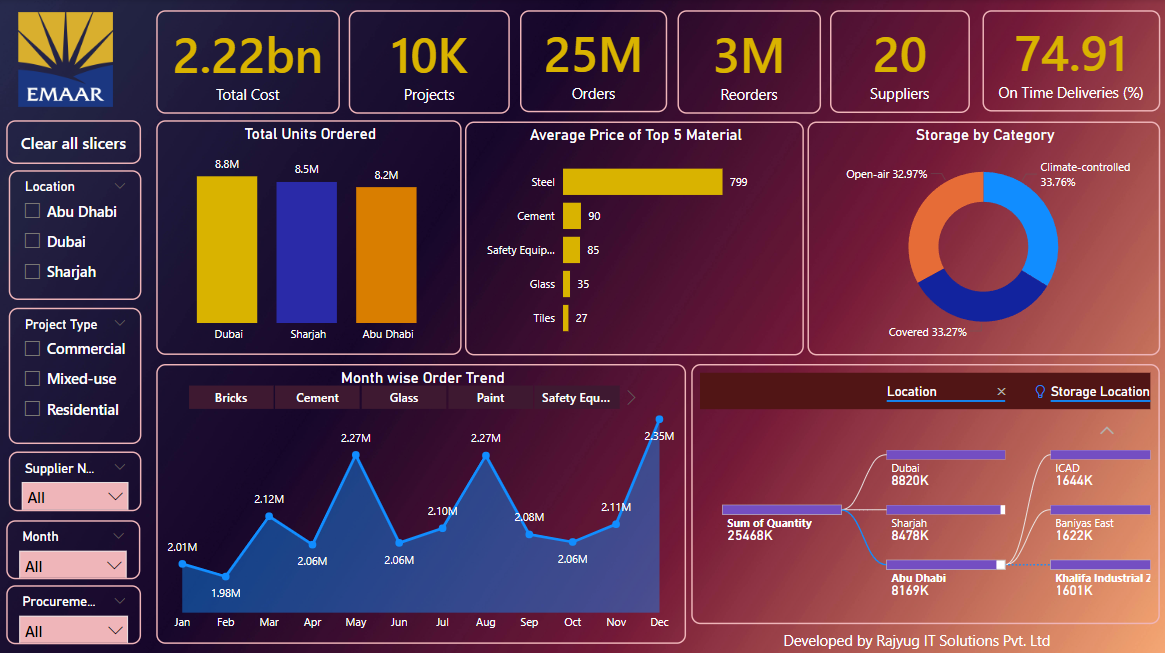

Layout of this report page (visuals, bound fields, positions):
{"tool":"powerbi","page":{"name":"Real Estate 1","canvas":[1280,720],"ordinal":0},"visuals":[{"type":"card","fields":{"Values":["Sum(dubai_construction_procurement.Reorder Quantity)"]},"box":[743.7,12.3,157.8,113.9],"z":0},{"type":"card","fields":{"Values":["Sum(dubai_construction_procurement.Quantity)"]},"box":[570.8,12.3,161.9,112],"z":1000},{"type":"card","fields":{"Values":["Sum(dubai_construction_procurement.Total Cost)"]},"box":[171.5,12.3,201.7,113.9],"z":2000},{"type":"columnChart","title":"Total Units Ordered","fields":{"Category":["dubai_construction_procurement.Location"],"Y":["Sum(dubai_construction_procurement.Quantity)"]},"box":[171.5,133.1,334.8,258],"z":3000},{"type":"decompositionTreeVisual","title":"Total Cost by Procurement Status","fields":{"ExplainBy":["dubai_construction_procurement.Location","dubai_construction_procurement.Storage Location"],"Analyze":["Sum(dubai_construction_procurement.Quantity)"]},"box":[758.8,400.7,514.6,285.4],"z":4000},{"type":"donutChart","title":"Storage by Category","fields":{"Category":["dubai_construction_procurement.Storage Conditions"],"Y":["Sum(dubai_construction_procurement.Quantity)"]},"box":[886.5,134.5,387,256.6],"z":5000},{"type":"lineChart","title":"Month wise Order Trend","fields":{"Y":["Sum(dubai_construction_procurement.Quantity)"],"Category":["Calende table.Month"]},"box":[171.5,400.7,581.8,307.4],"z":6000},{"type":"slicer","fields":{"Values":["dubai_construction_procurement.Location"]},"box":[9.6,188,145.5,142],"z":7000},{"type":"slicer","fields":{"Values":["dubai_construction_procurement.Project Type"]},"box":[9.6,338.9,145.5,149.6],"z":8000},{"type":"slicer","title":"Month","fields":{"Values":["Calende table.Date.Variation.Date Hierarchy.Month"]},"box":[7,572.2,146.8,65],"z":9000},{"type":"slicer","fields":{"Values":["dubai_construction_procurement.Procurement Status"]},"box":[7,644,148.2,65],"z":10000},{"type":"clusteredBarChart","title":"Average Price of Top 5 Material","fields":{"Y":["Avg(dubai_construction_procurement.Unit Price)"],"Category":["dubai_construction_procurement.Material Type"]},"box":[510,134.5,371.9,256.6],"z":11000},{"type":"actionButton","box":[7,133.1,148.2,48],"z":12000},{"type":"image","box":[9.6,9.6,124.9,113.9],"z":13000},{"type":"slicer","fields":{"Values":["dubai_construction_procurement.Material Type"]},"box":[181.4,417.1,522.9,40],"z":14000},{"type":"textbox","box":[767.1,687.5,478.9,32.9],"z":15000},{"type":"card","fields":{"Values":["Measure table.On Time Deliveries (%)"]},"box":[1078.6,12.3,194.9,111.1],"z":16000},{"type":"slicer","fields":{"Values":["dubai_construction_procurement.Supplier Name"]},"box":[9.6,496.7,145.5,65.9],"z":17000},{"type":"card","fields":{"Values":["Measure table.Total Projects"]},"box":[382.8,12.3,177,113.9],"z":18000},{"type":"card","fields":{"Values":["Measure table.Total Suppliers"]},"box":[911.2,12.3,153.7,112.5],"z":19000}]}

Visuals, with their boxes in screenshot pixels (x1, y1, x2, y2), scaled from the page's 1280x720 canvas onto the 1165x653 screenshot:
card - Sum(dubai_construction_procurement.Reorder Quantity): left=677, top=11, right=821, bottom=114
card - Sum(dubai_construction_procurement.Quantity): left=520, top=11, right=667, bottom=113
card - Sum(dubai_construction_procurement.Total Cost): left=156, top=11, right=340, bottom=114
"Total Units Ordered" columnChart: left=156, top=121, right=461, bottom=355
"Total Cost by Procurement Status" decompositionTreeVisual: left=691, top=363, right=1159, bottom=622
"Storage by Category" donutChart: left=807, top=122, right=1159, bottom=355
"Month wise Order Trend" lineChart: left=156, top=363, right=686, bottom=642
slicer - dubai_construction_procurement.Location: left=9, top=171, right=141, bottom=299
slicer - dubai_construction_procurement.Project Type: left=9, top=307, right=141, bottom=443
"Month" slicer: left=6, top=519, right=140, bottom=578
slicer - dubai_construction_procurement.Procurement Status: left=6, top=584, right=141, bottom=643
"Average Price of Top 5 Material" clusteredBarChart: left=464, top=122, right=803, bottom=355
actionButton: left=6, top=121, right=141, bottom=164
image: left=9, top=9, right=122, bottom=112
slicer - dubai_construction_procurement.Material Type: left=165, top=378, right=641, bottom=415
textbox: left=698, top=624, right=1134, bottom=652
card - Measure table.On Time Deliveries (%): left=982, top=11, right=1159, bottom=112
slicer - dubai_construction_procurement.Supplier Name: left=9, top=450, right=141, bottom=510
card - Measure table.Total Projects: left=348, top=11, right=510, bottom=114
card - Measure table.Total Suppliers: left=829, top=11, right=969, bottom=113
